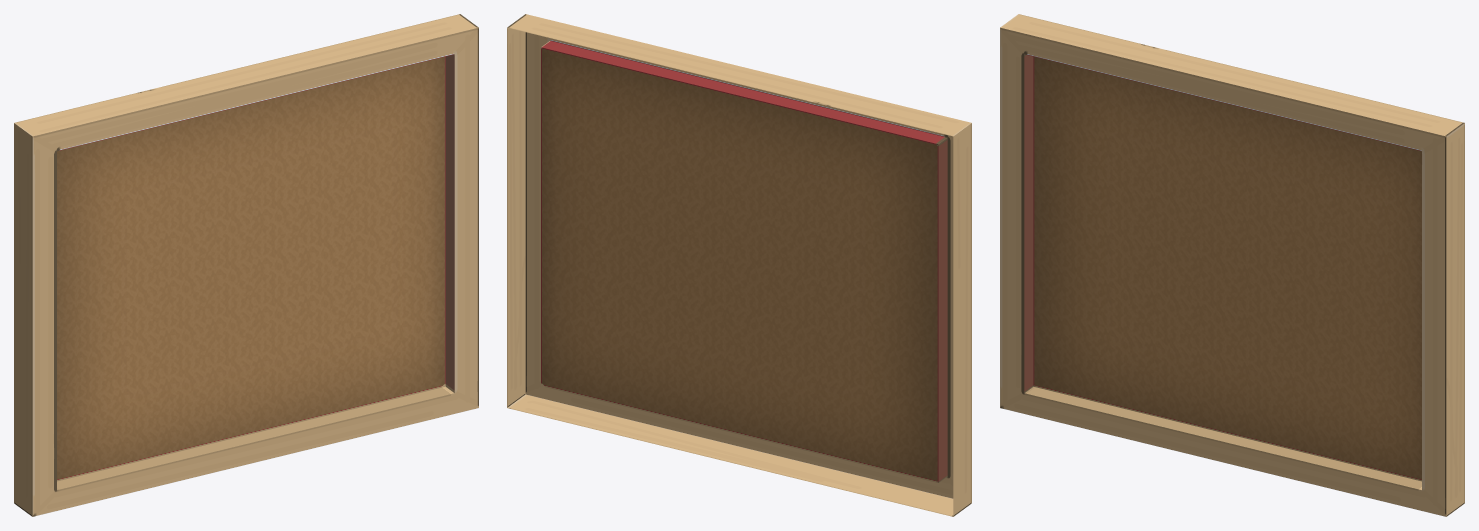
The model's file is Noticeboard.fbx.
The picture shows the model from 3 angles, left to right: view 1: azimuth 30°, elevation 25°; view 2: azimuth 150°, elevation 25°; view 3: azimuth 330°, elevation 25°; orthographic projection.
Visible parts, largest first — view 1: polySurface26; view 2: polySurface26; view 3: polySurface26.
Boxes of the visible parts, x1,y1,x2,y2 form: polySurface26: (14, 14, 478, 516); polySurface26: (507, 14, 971, 516); polySurface26: (1000, 14, 1464, 516).
Size of the model in its own units: 109 by 88.8 by 7.87.
